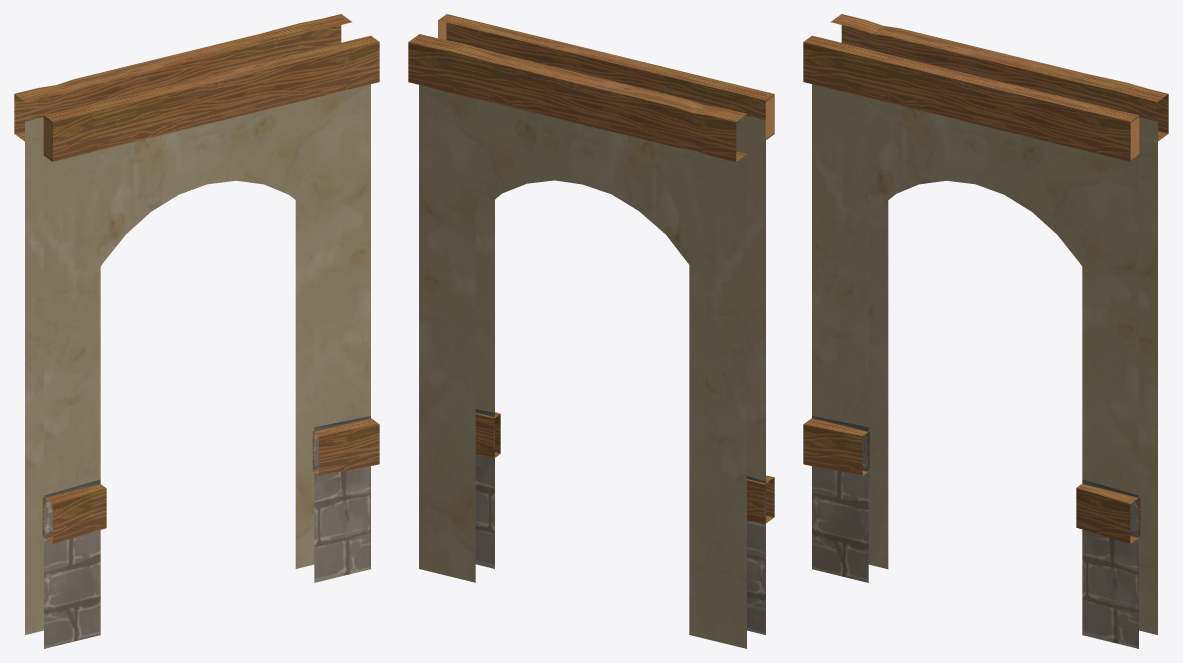
The model's file is Wall_Plaster_Door_Round.glb.
The picture shows the model from 3 angles, left to right: view 1: azimuth 30°, elevation 25°; view 2: azimuth 150°, elevation 25°; view 3: azimuth 330°, elevation 25°; orthographic projection.
Parts seen in each view (by area): view 1: Wall_Plaster_Door_Round; view 2: Wall_Plaster_Door_Round; view 3: Wall_Plaster_Door_Round.
Part boxes in pixels (bbox=[...]): Wall_Plaster_Door_Round: bbox=[14, 14, 379, 648]; Wall_Plaster_Door_Round: bbox=[408, 14, 774, 648]; Wall_Plaster_Door_Round: bbox=[803, 14, 1168, 648].
Size of the model in its own units: 2 by 3.12 by 0.4064.
3 materials, 3 textured.
